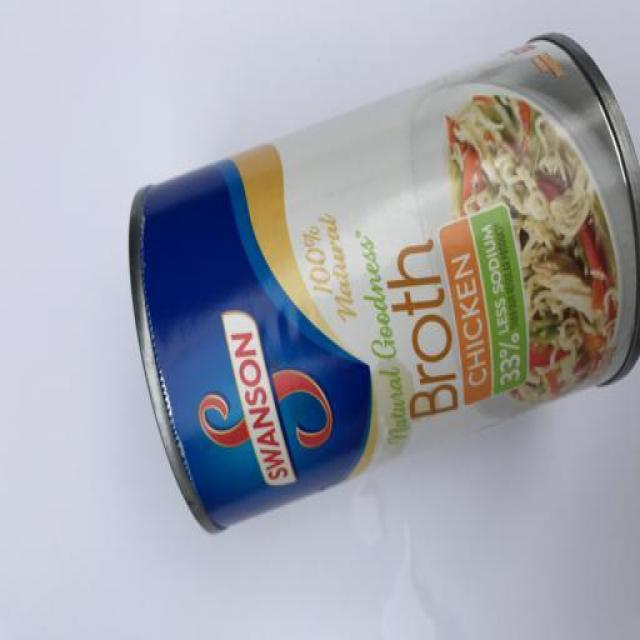metel: (93, 15, 640, 517)
